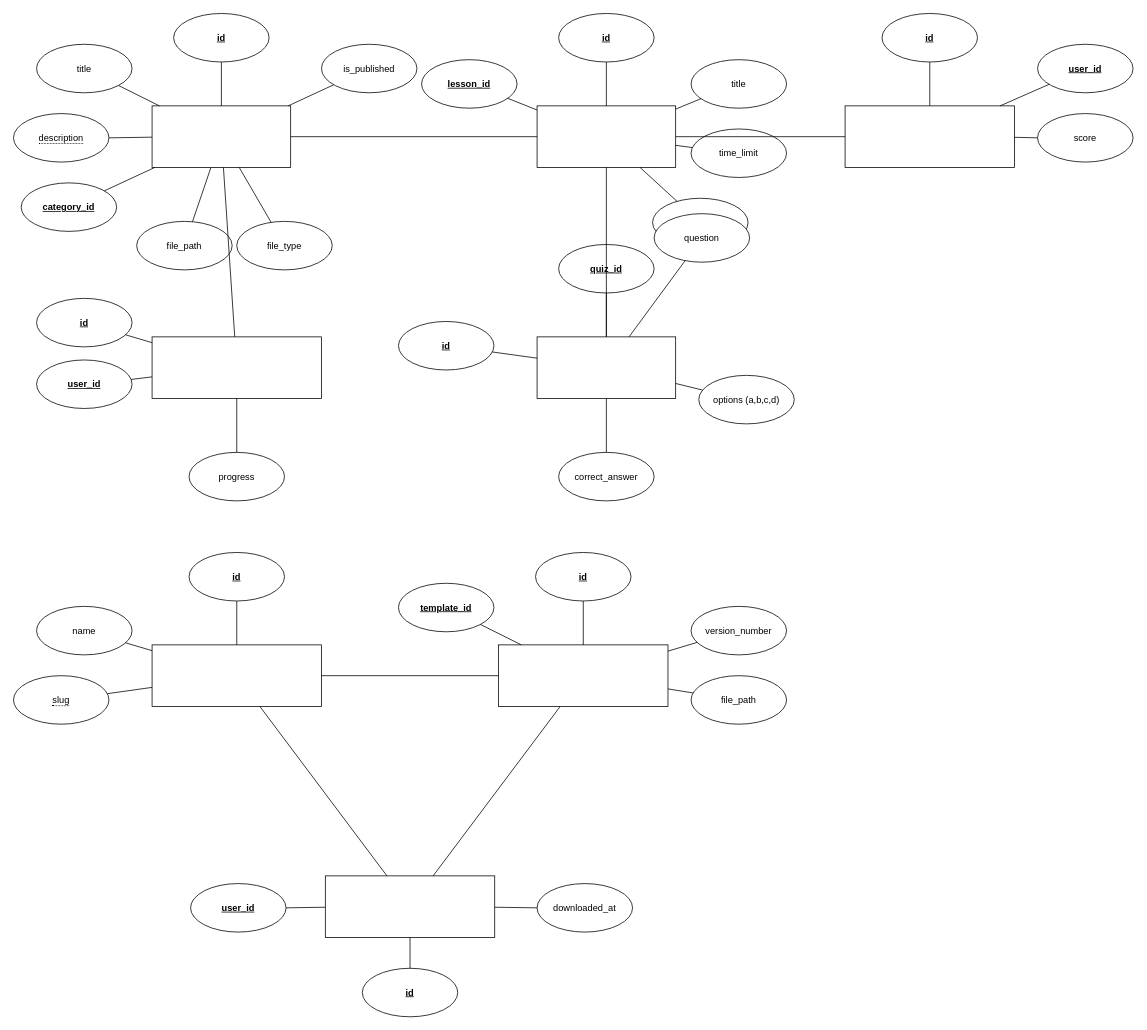
The diagram is 1147 pixels wide and 1030 high, and some of its shapes have lost their labels. Each missing label, with the box of its shape:
DocumentTemplate: (151, 644, 321, 706)
Lesson: (151, 105, 291, 167)
Quiz: (536, 105, 676, 167)
QuizQuestion: (536, 336, 676, 398)
TemplateLog: (325, 875, 495, 937)
TemplateVersion: (498, 644, 668, 706)
UserLessonProgress: (151, 336, 321, 398)
UserQuizAttempt: (844, 105, 1014, 167)
